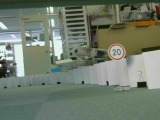speed_20: (106, 43, 126, 60)
